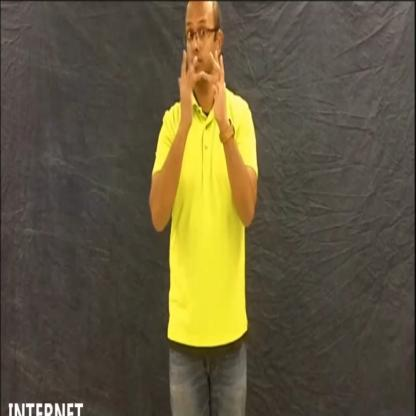Internet: (176, 47, 230, 127)
